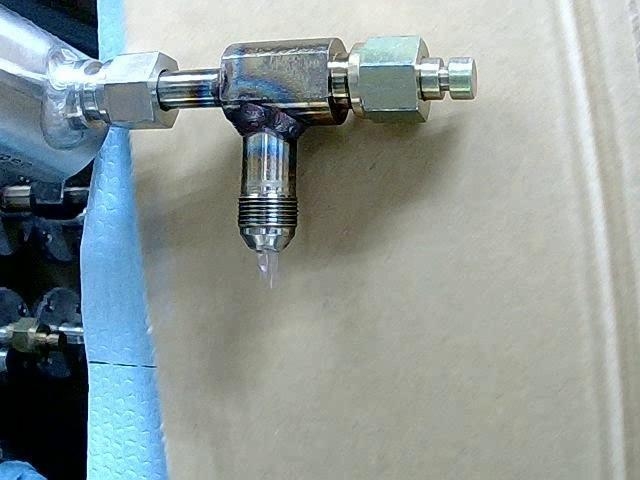water drop: (257, 252, 280, 291)
